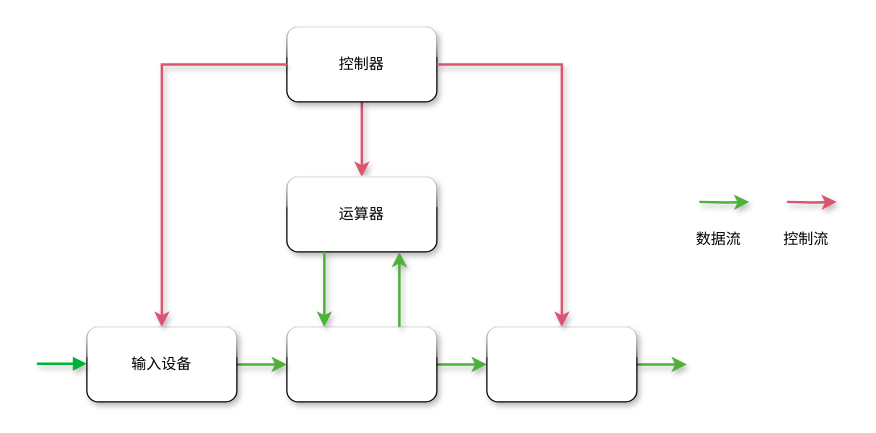
Some shapes in this 876 by 433 pixel diagram are drawn without their labels. Here are the shapes that lost their labels. From the top down, the centre of each, then its label:
the point at 362,366: 存储器
the point at 562,366: 输出设备
